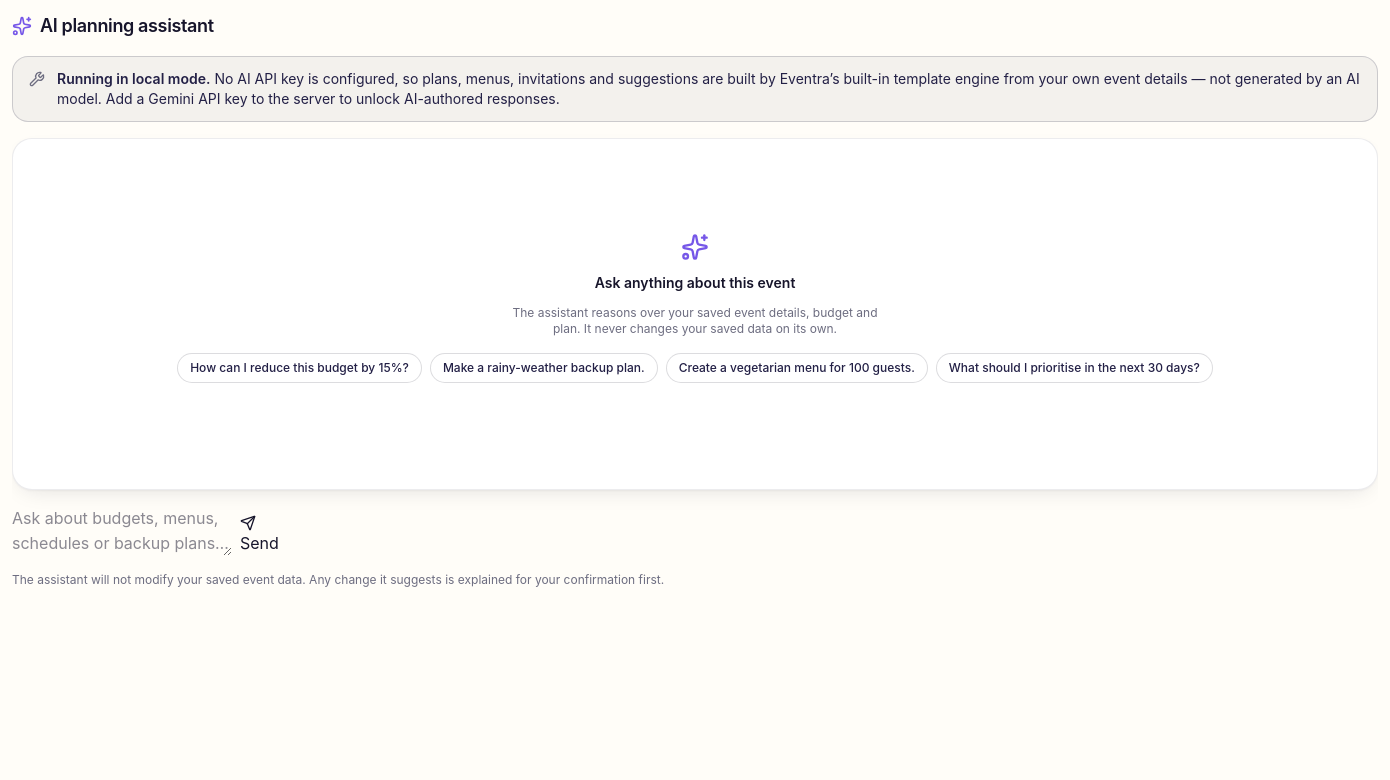
it: ChatPanel › surfaces an ApiError message and does not duplicate the user message
Type "How do I cut costs?" into the text box named "Message the planning assistant" at (122, 531), box [12,506,232,556]
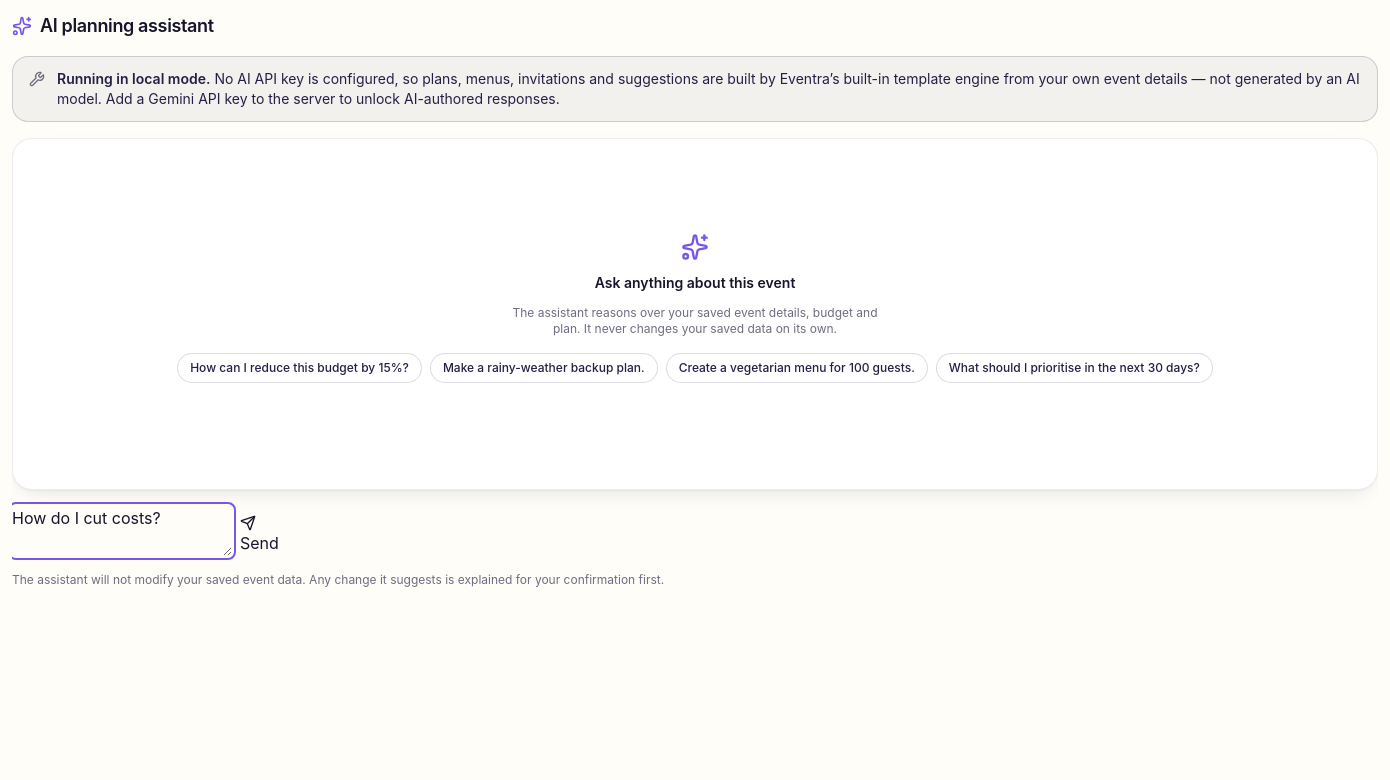
Click the button "Send" at (259, 535), box [240,515,279,556]
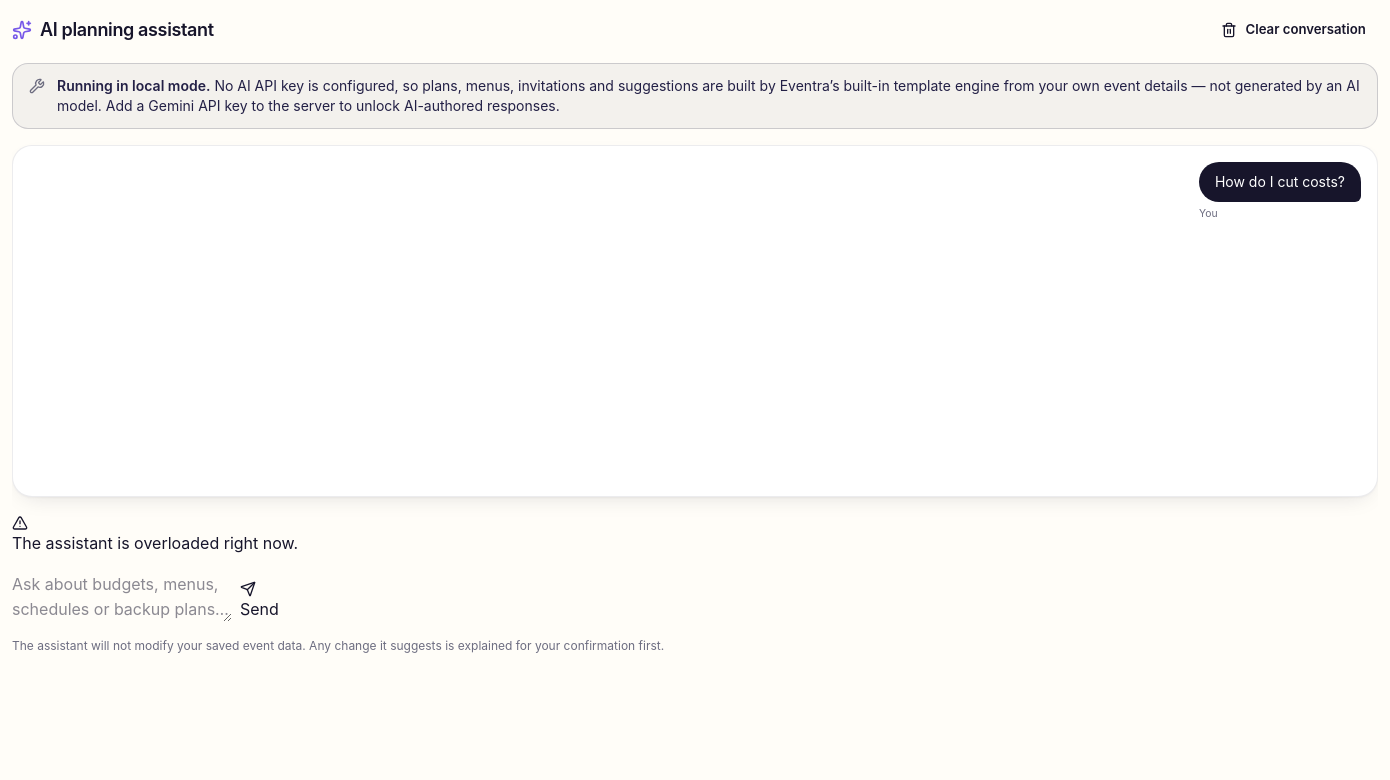
Now the message "The assistant is overloaded right now." is shown, box [12,515,298,553]
Now the text "How do I cut costs?" is shown once, box [1215,172,1345,192]
Now the text box named "Message the planning assistant" is empty, box [12,572,232,622]
